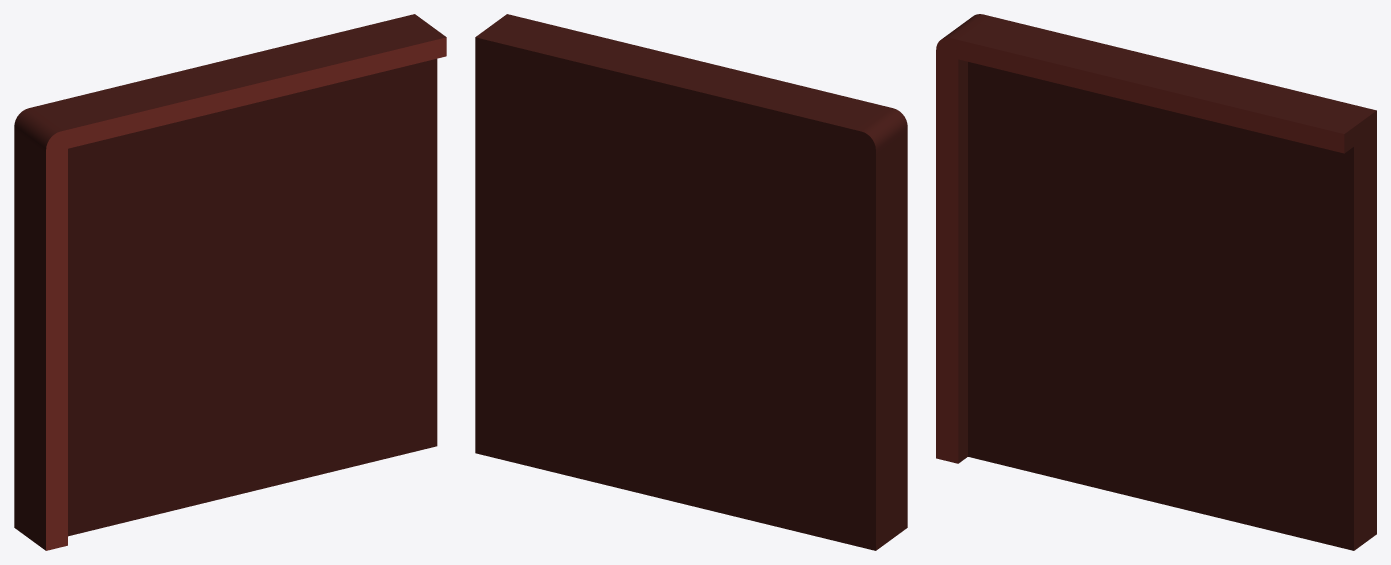
File: Cupcake Tray Sort - board demo.fbx
3 renders of one model, left to right at view 1: azimuth 30°, elevation 25°; view 2: azimuth 150°, elevation 25°; view 3: azimuth 330°, elevation 25°, orthographic.
Parts seen in each view (by area): view 1: board 1; view 2: board 1; view 3: board 1.
Boxes of the visible parts, x1=… form: board 1: x1=14, y1=14, x2=446, y2=550; board 1: x1=475, y1=14, x2=907, y2=550; board 1: x1=936, y1=14, x2=1376, y2=550.
Bounding box in the file's own units: 0.1042 × 0.1034 × 0.0143.
